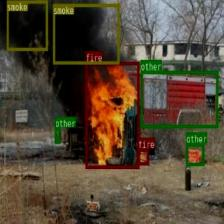fire: (85, 62, 139, 168), (137, 148, 149, 164)
smoke: (53, 3, 119, 64), (6, 0, 47, 50)
